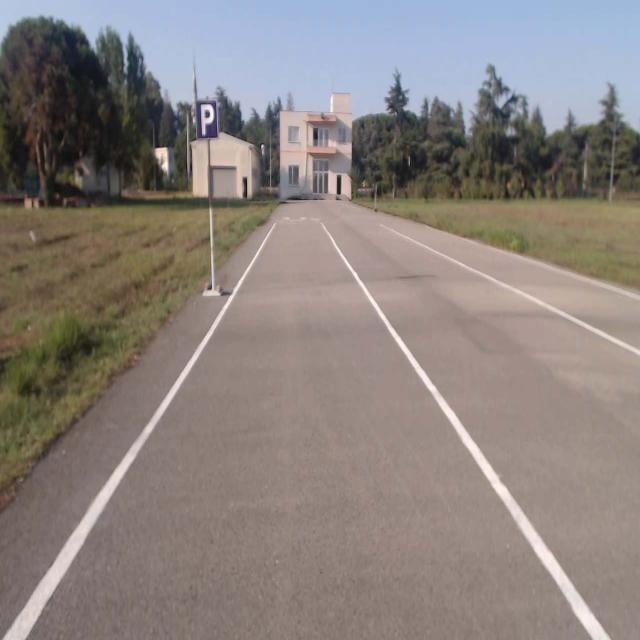park: (196, 100, 218, 138)
